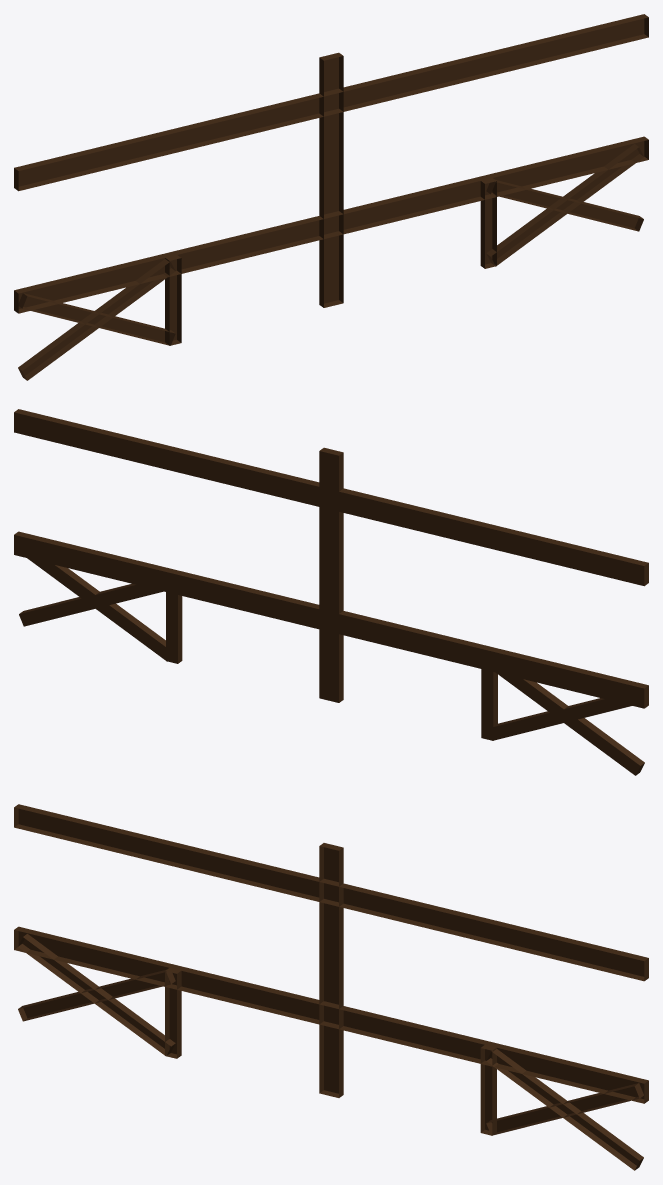
Rendered from Long Side Small Part 1.fbx.
3 renders of one model, top to bottom at view 1: azimuth 30°, elevation 25°; view 2: azimuth 150°, elevation 25°; view 3: azimuth 330°, elevation 25°, orthographic.
Visible parts, largest first — view 1: Long_Side_House; view 2: Long_Side_House; view 3: Long_Side_House.
Part boxes in pixels (x1,y1,x2,y2): Long_Side_House: (14,14,648,380); Long_Side_House: (14,409,648,775); Long_Side_House: (14,804,648,1170).
Size of the model in its own units: 8 by 3.01 by 0.1.
